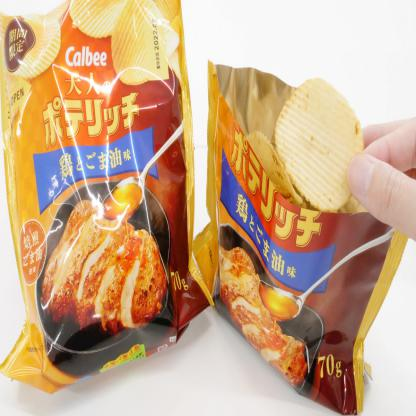potatochip: (0, 0, 220, 402), (189, 43, 415, 415)
